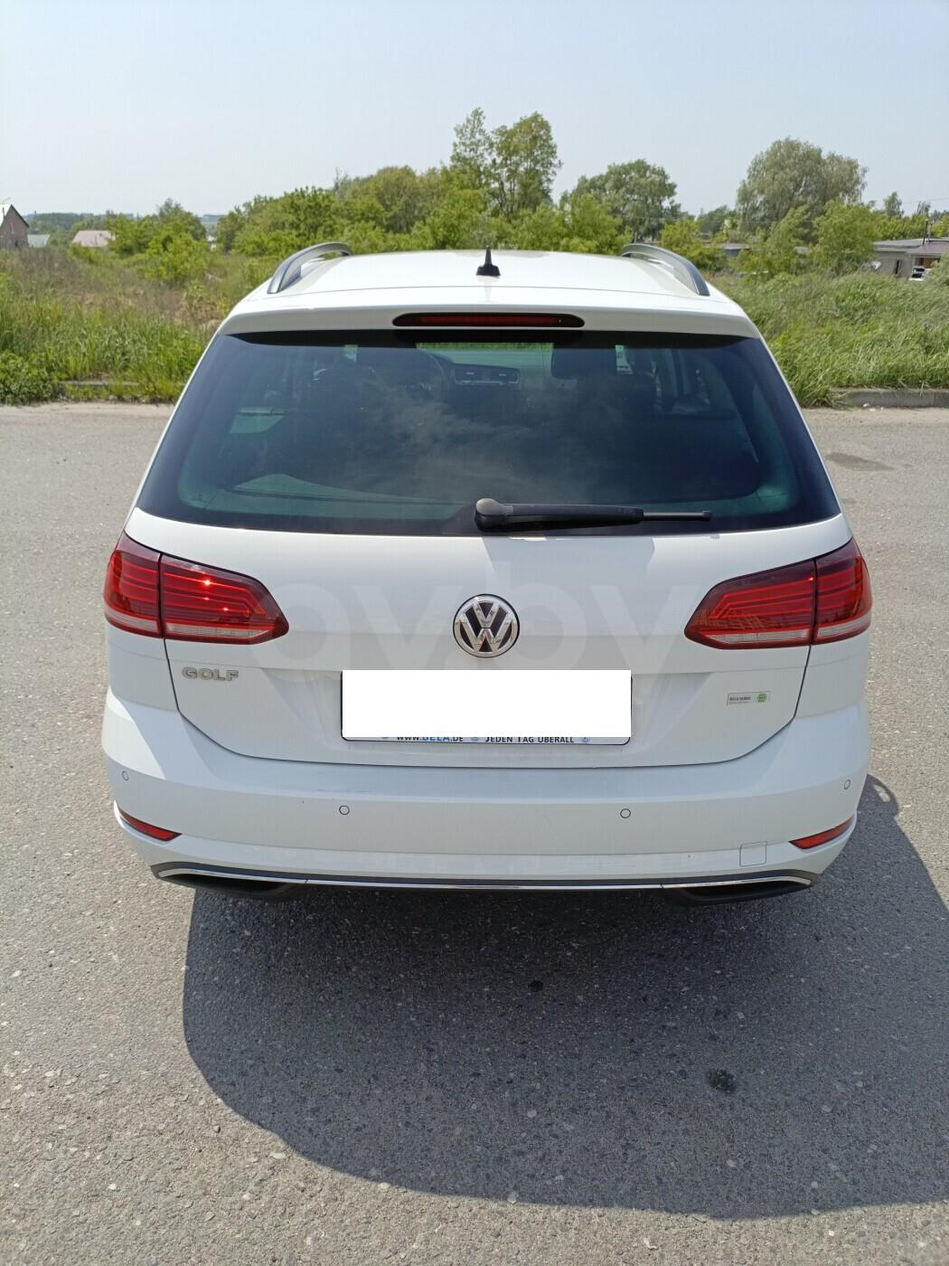Golf_2017-2021: (93, 240, 874, 913)
